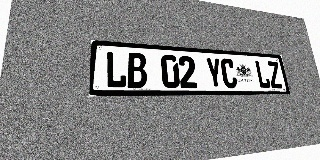0: (160, 54, 180, 88)
2: (178, 56, 197, 88)
B: (127, 52, 147, 88)
C: (220, 58, 238, 88)
L: (105, 51, 127, 88), (254, 60, 271, 88)
Y: (205, 57, 223, 88)
Z: (266, 61, 283, 88)
